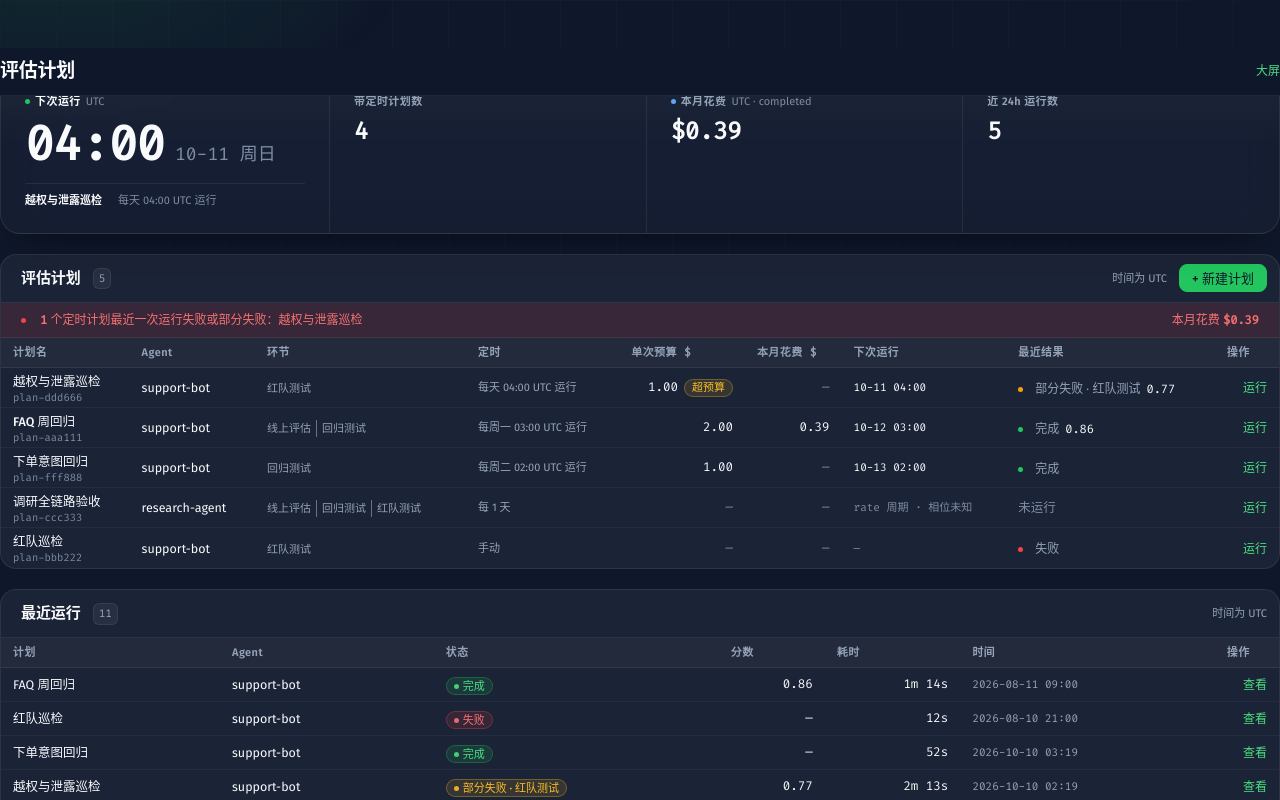
Test: WorkbenchPage 计划表 › 运行：确认后发 run_plan 请求 + toast「已开始」+ 跳 #/plan/:id
Step 1. Click the button with test id "plan-row-plan-aaa111-run" → click(1255, 429), box [1243,420,1267,437]
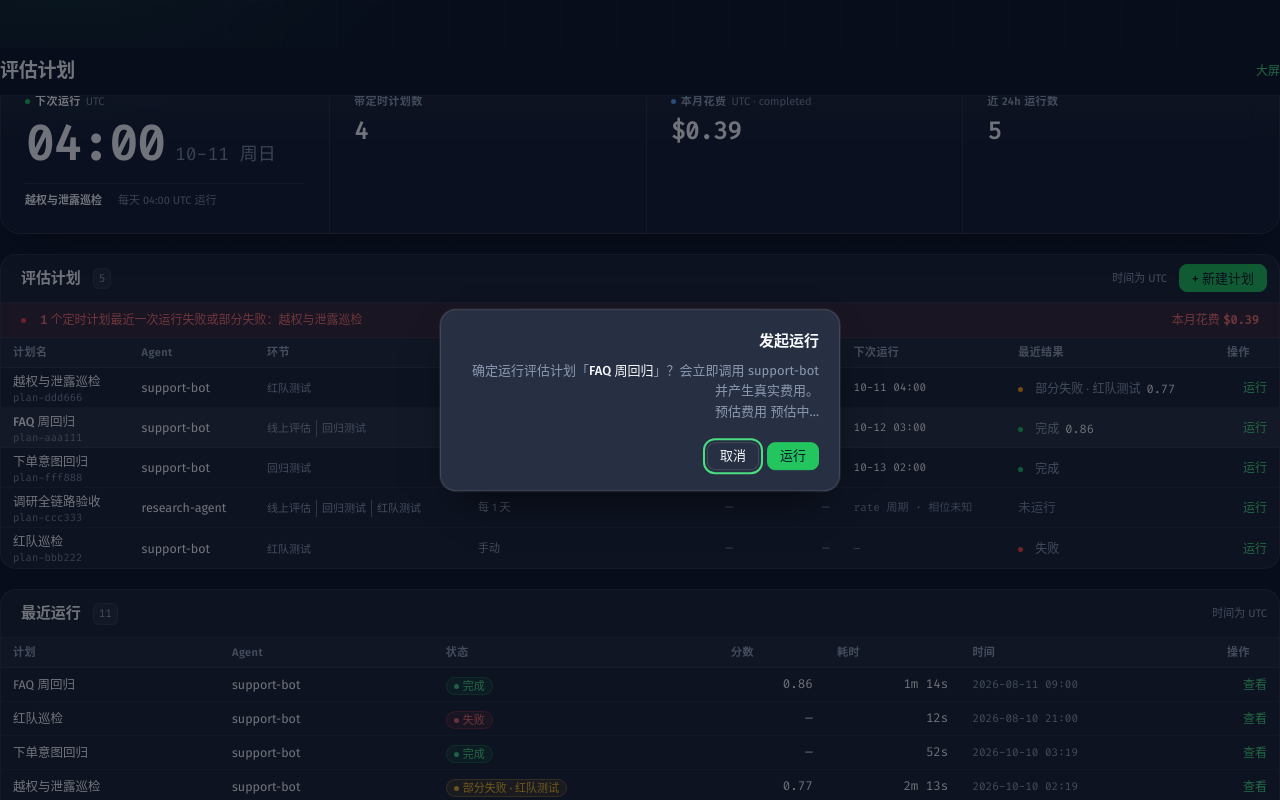
缺陷 2 起：发起运行多一步二次确认（下面用例专测这一步）
Step 2. Click the button with test id "confirm-card-ok" → click(793, 456), box [767,442,819,470]
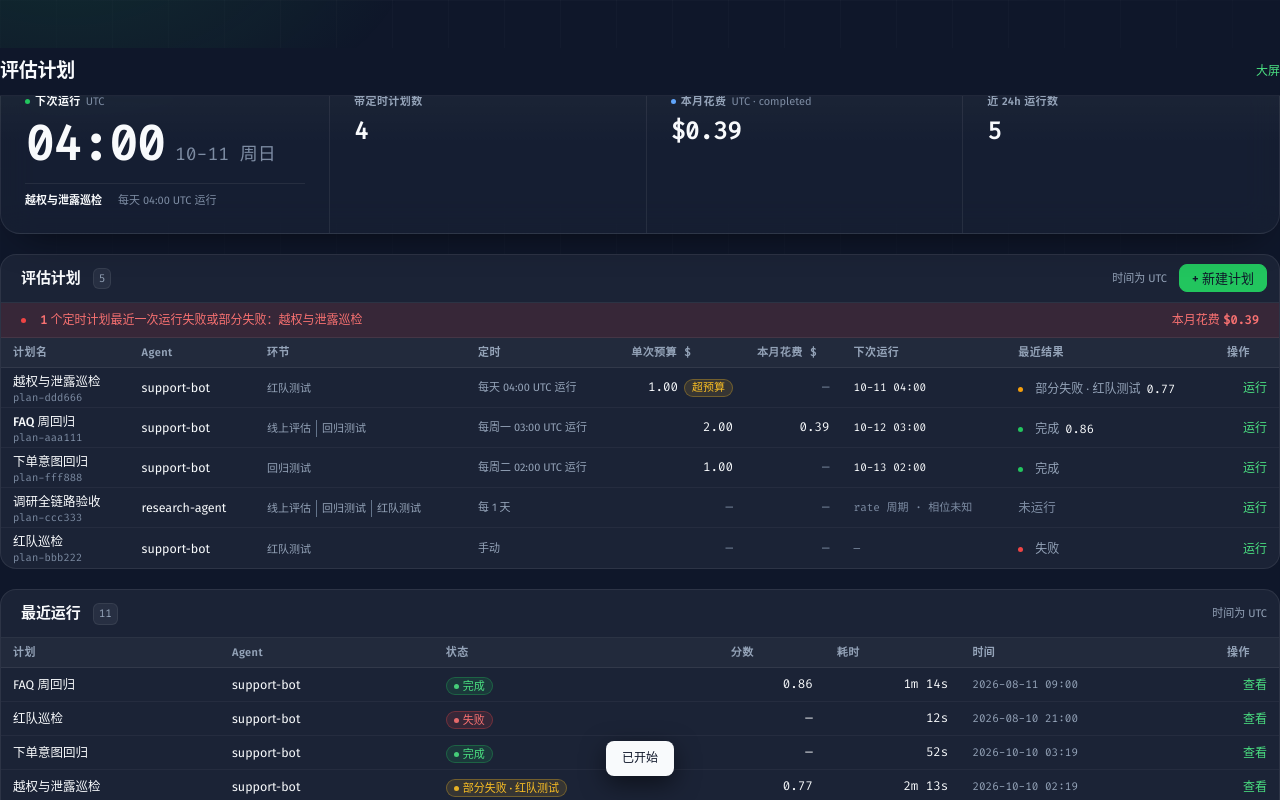
Now the message with test id "toast" reads "已开始", box [622,751,658,765]
